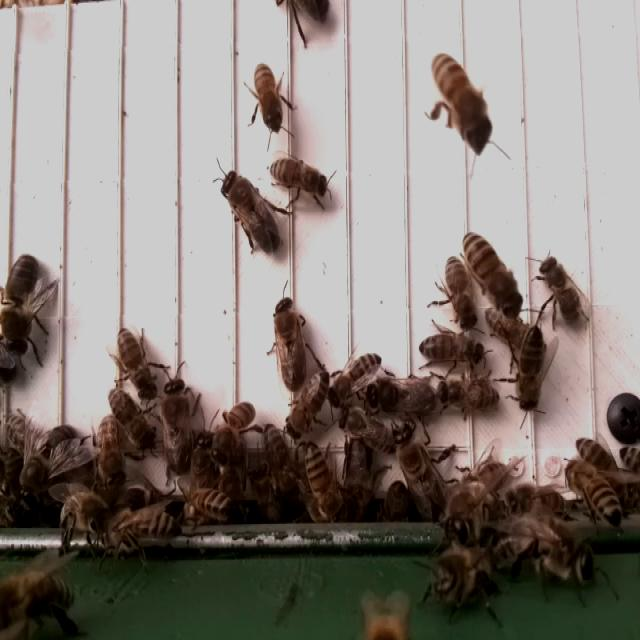Drone: (16, 415, 83, 512), (220, 168, 282, 257), (395, 422, 448, 522), (0, 254, 43, 359), (158, 371, 197, 476), (362, 368, 437, 420), (272, 292, 307, 395)
Worker: (460, 231, 525, 312), (433, 53, 491, 141), (106, 384, 160, 459), (564, 459, 620, 524), (326, 350, 385, 410), (539, 252, 584, 329), (114, 322, 157, 401), (286, 366, 330, 443), (513, 323, 547, 415), (212, 397, 256, 468), (266, 153, 331, 200), (417, 330, 488, 372), (304, 440, 338, 526), (443, 251, 477, 329), (94, 411, 127, 491), (251, 58, 285, 134), (175, 484, 236, 525), (440, 379, 502, 415)
